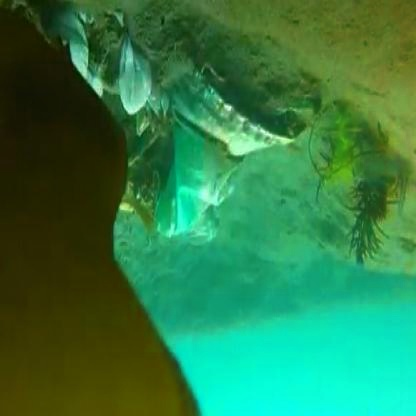plastic: (90, 15, 237, 195)
